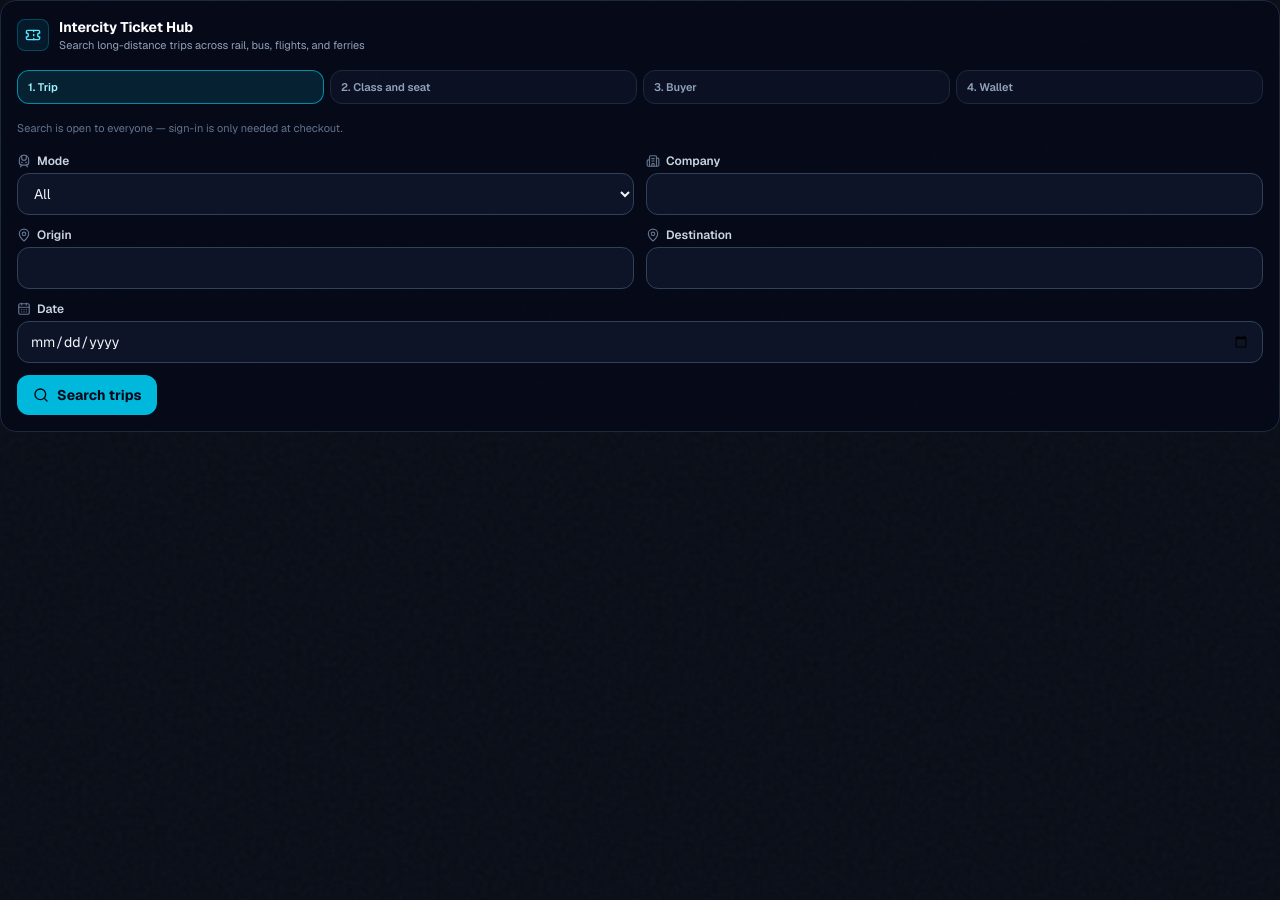
IntercityTicketHub search-first flow › filters by origin, destination, and date then lists matching runs
Type "Gambir" into the field labelled "Origin" at (326, 268), box [17,246,634,288]
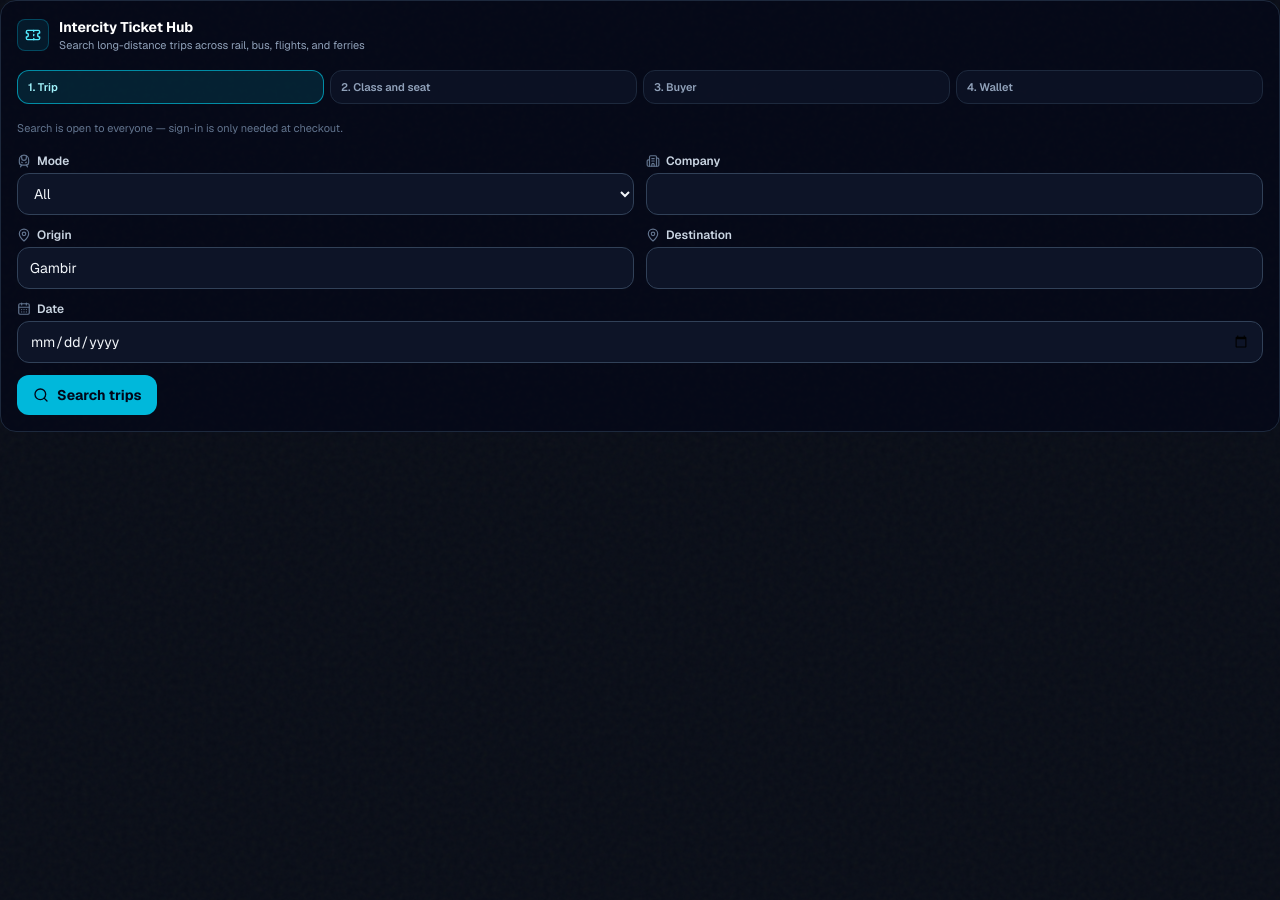
Type "Surabaya" into the field labelled "Destination" at (954, 268), box [646,246,1263,288]
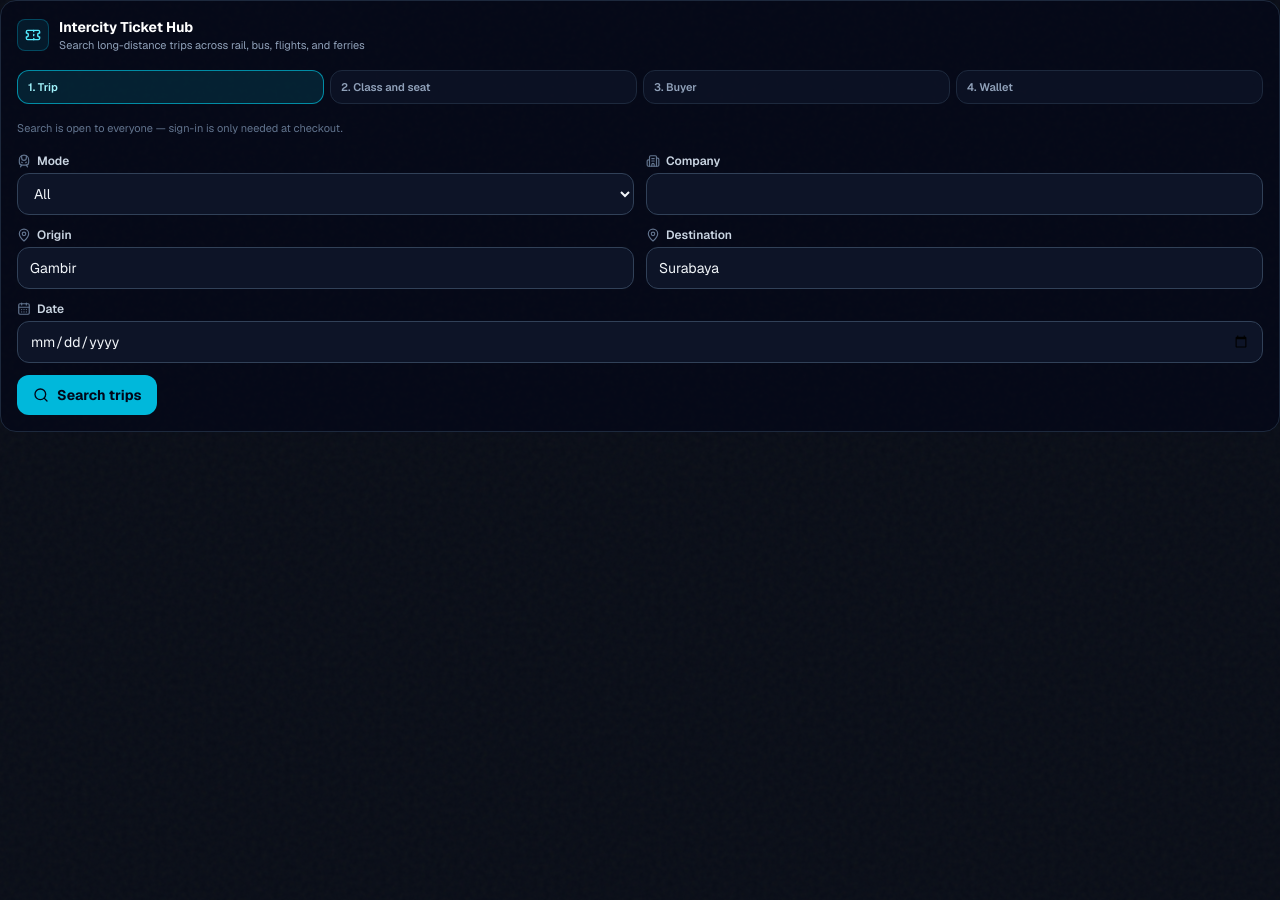
Type "2026-10-26" into the date field labelled "Date" at (640, 342), box [17,320,1263,362]
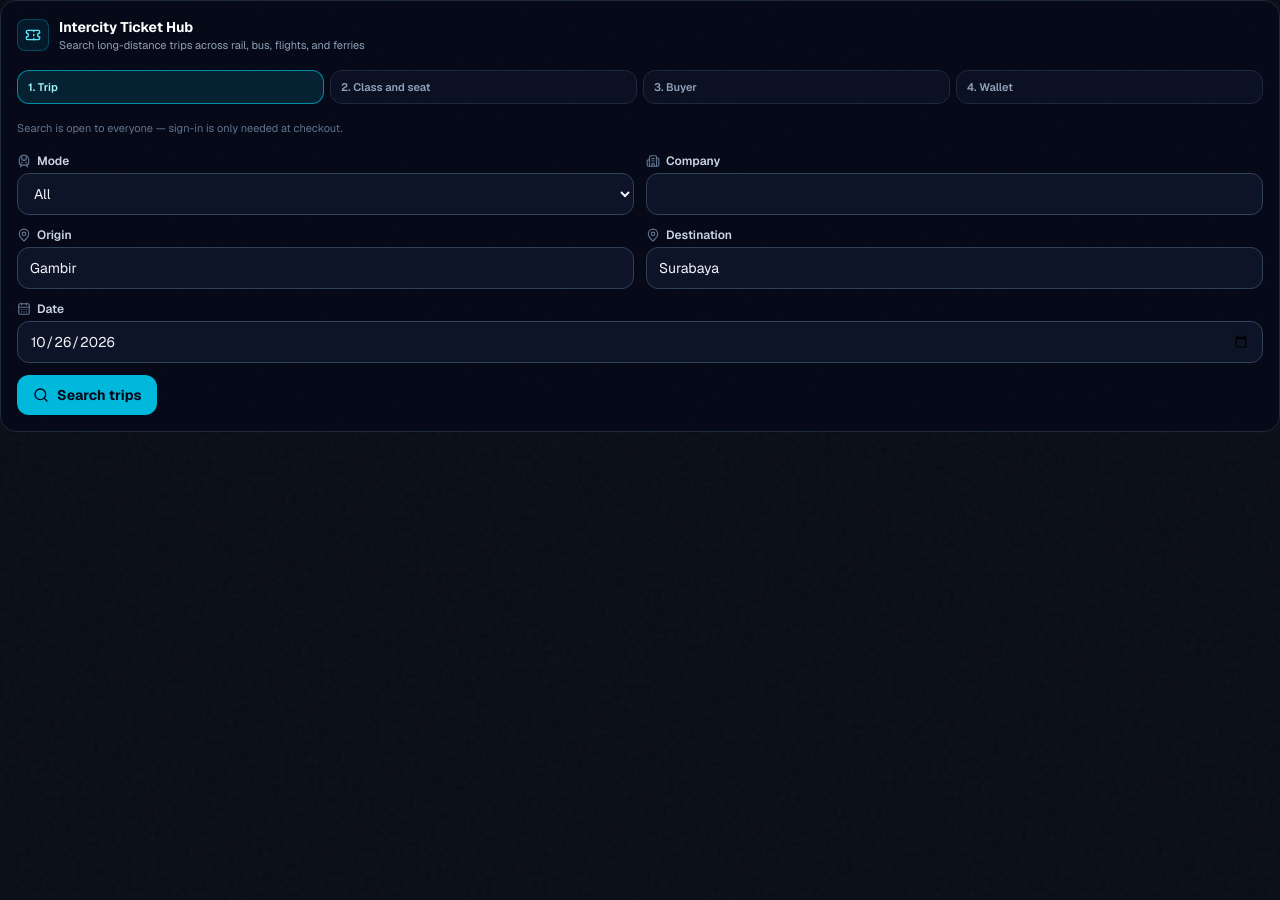
Click the button "Search trips" at (87, 394), box [17,374,157,414]
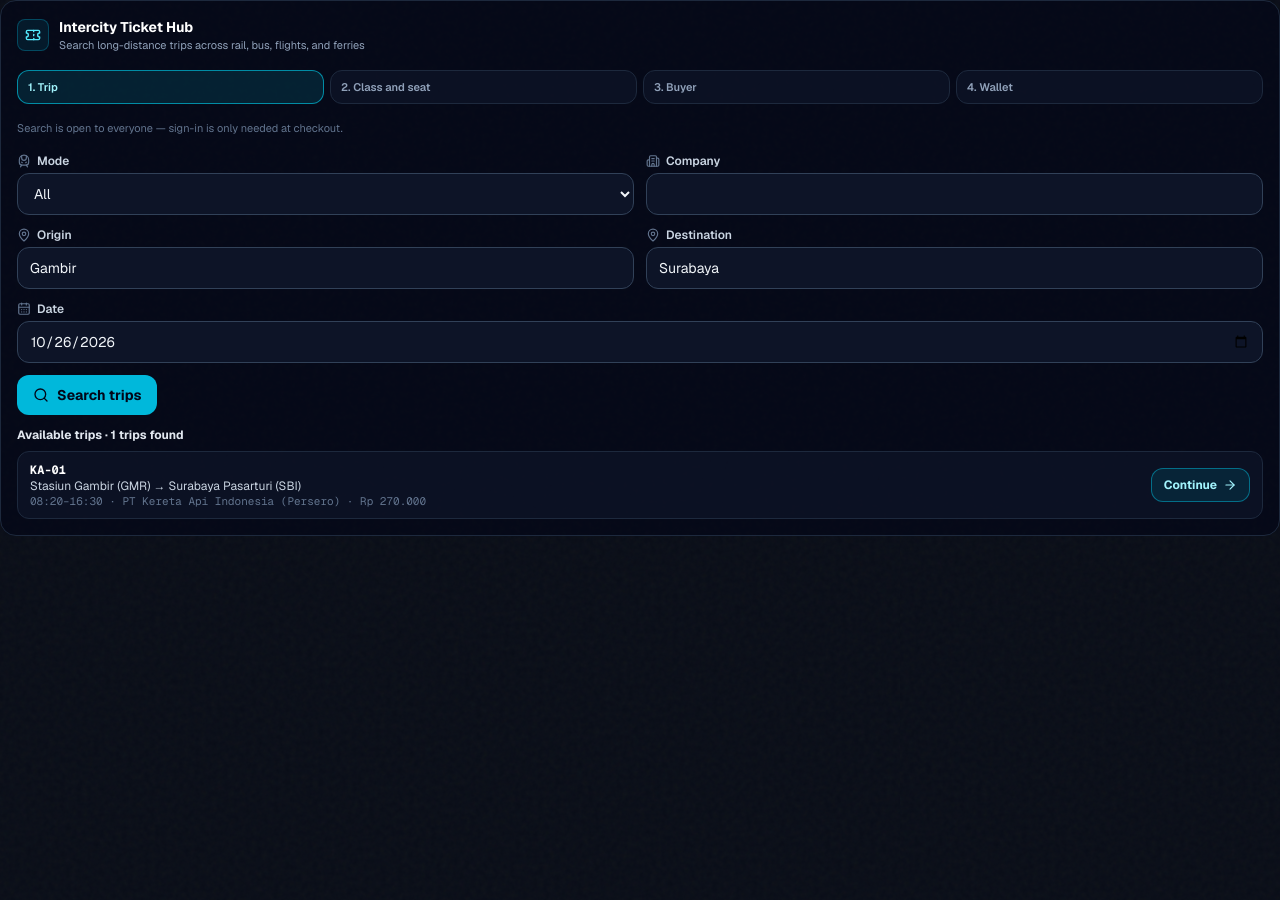
Check: the text "KA-01" is shown, box [30,462,66,478]
